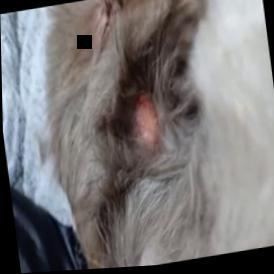skin_lesions: (125, 87, 163, 153)
